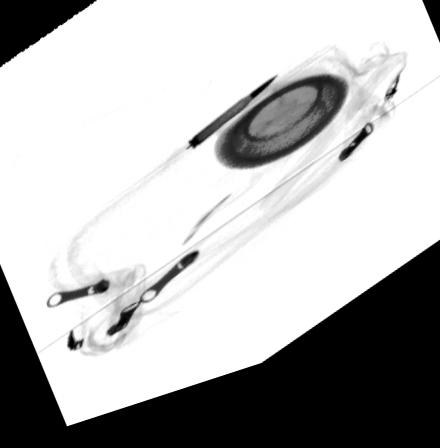Bullet: (186, 90, 283, 162)
